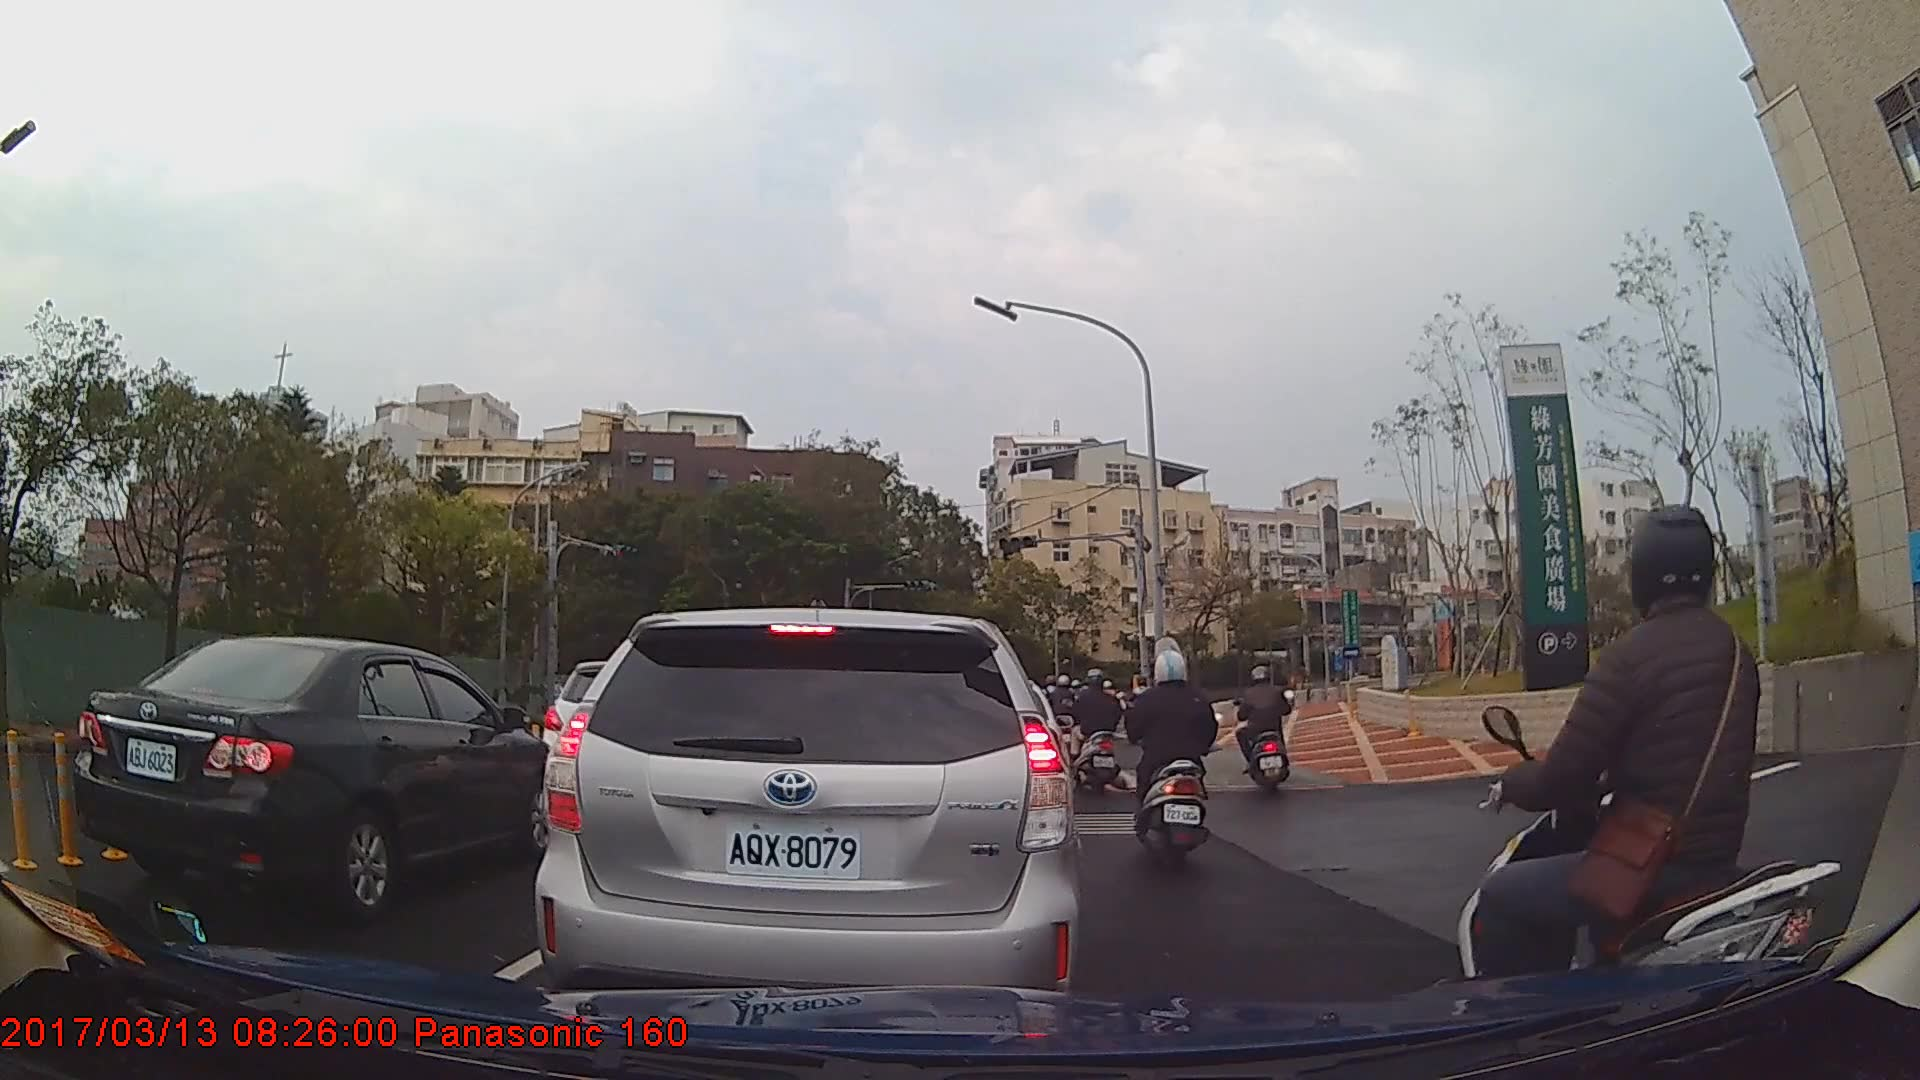rider: (1450, 502, 1843, 1057), (1127, 646, 1228, 880), (1232, 663, 1293, 792), (1073, 667, 1127, 799), (1050, 675, 1080, 762)
vehicle: (536, 604, 1082, 1042), (71, 633, 561, 921)
